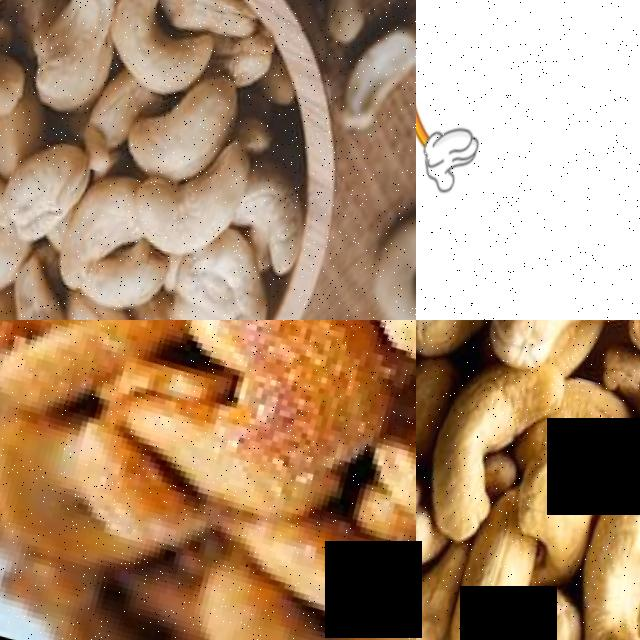cashew: (177, 320, 410, 480), (416, 352, 554, 553), (0, 92, 113, 255), (556, 453, 640, 640), (128, 157, 264, 266), (57, 147, 150, 299), (139, 71, 261, 185), (171, 220, 298, 320), (491, 320, 640, 396), (107, 0, 227, 90), (53, 0, 175, 84), (0, 248, 99, 320), (0, 2, 40, 174), (53, 283, 177, 320), (416, 572, 481, 640), (416, 320, 510, 364), (416, 473, 436, 581)
